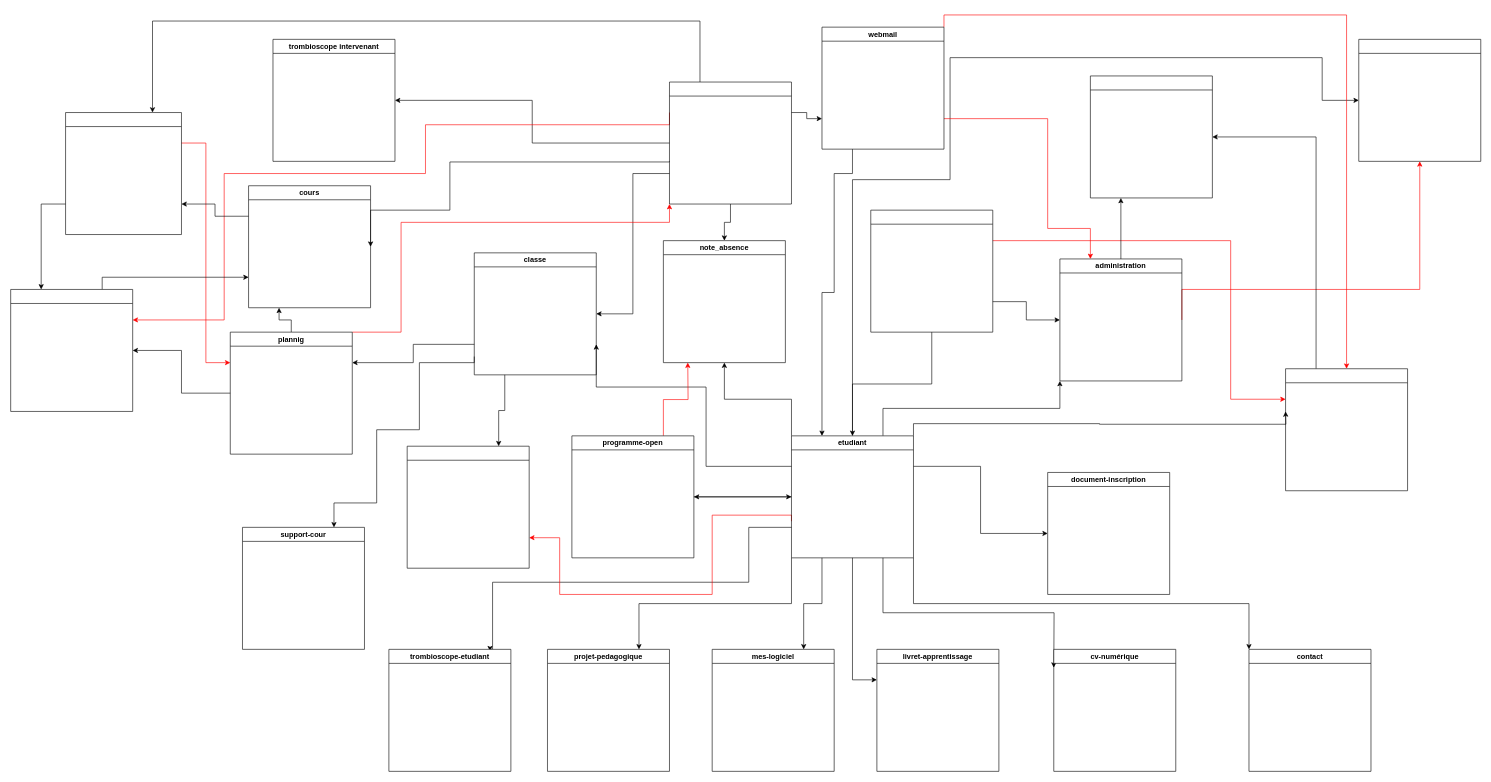
This 1491x782 diagram has some shape labels left out. Here are the shapes that lost their labels. From the top down, the centre of each, then its label:
pixel 1419 100: documents annuel
pixel 730 142: intervenant
pixel 1151 136: offre-partenaire
pixel 123 173: salle
pixel 931 271: user
pixel 71 350: matiere
pixel 1346 429: relation entrprise
pixel 468 507: syllabus-cour
